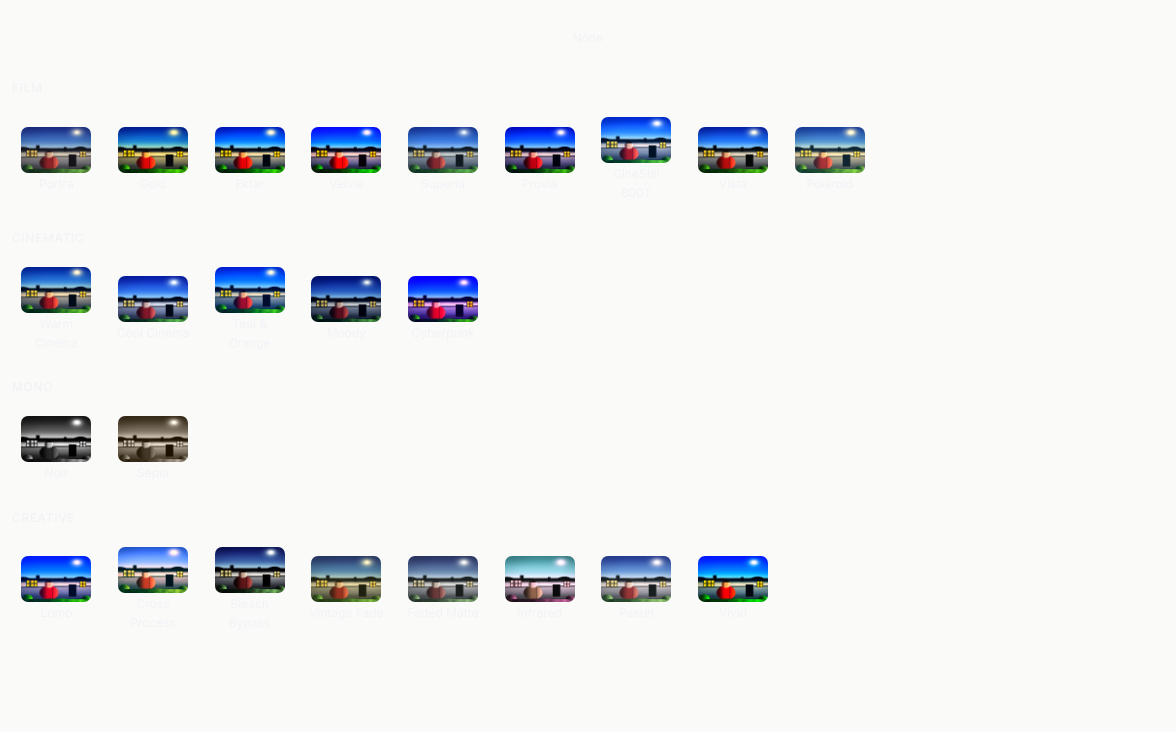
Scenario: FiltersPanel › reports a rejection that is not a LutLoadError without leaking the error object
Click the button "Ektar" at (250, 159), box [205,105,294,214]
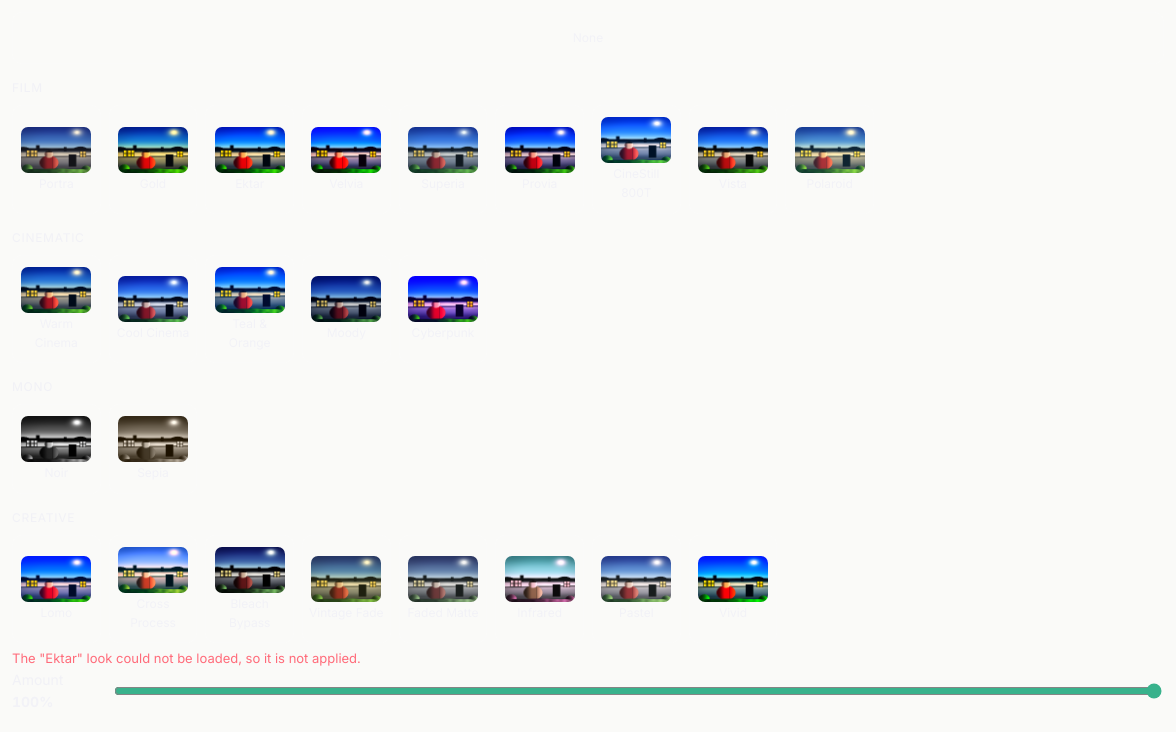
Check: the message "The \"Ektar\" look could not be loaded, so it is not applied." shows "The \"Ektar\" look could not be loaded", box [12,650,361,666]
